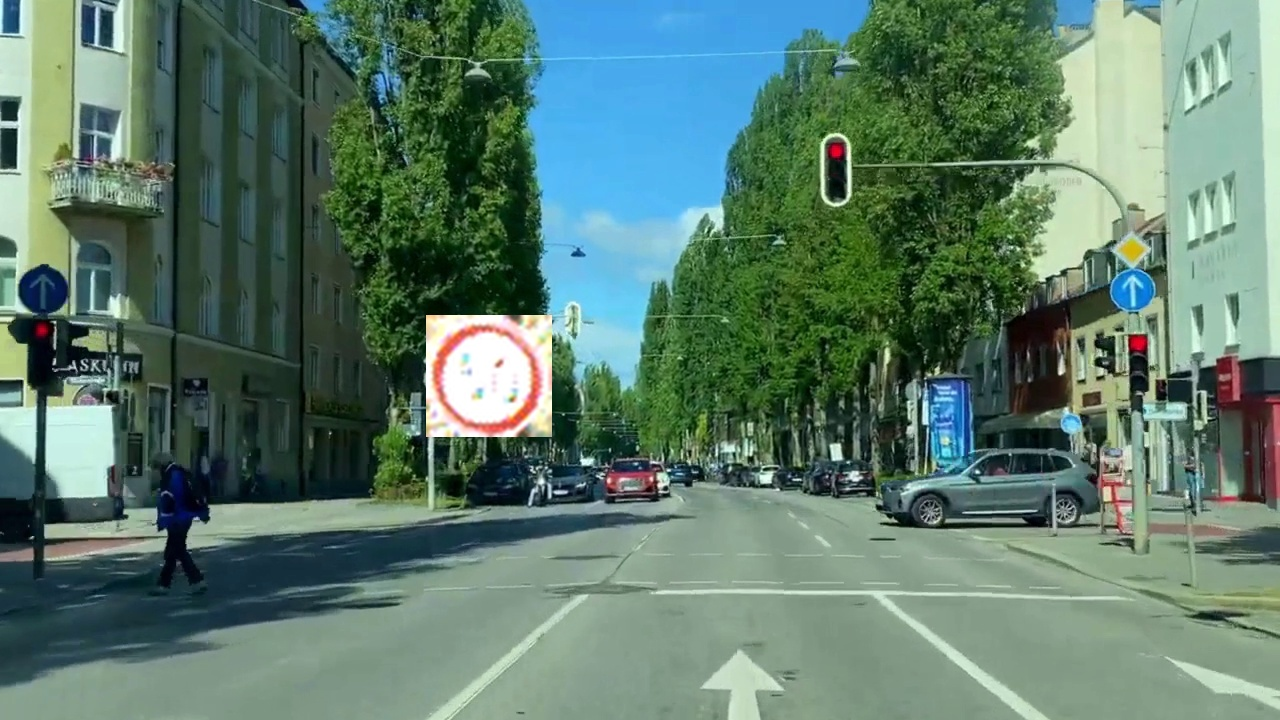Speed 50: (426, 315, 552, 437)
